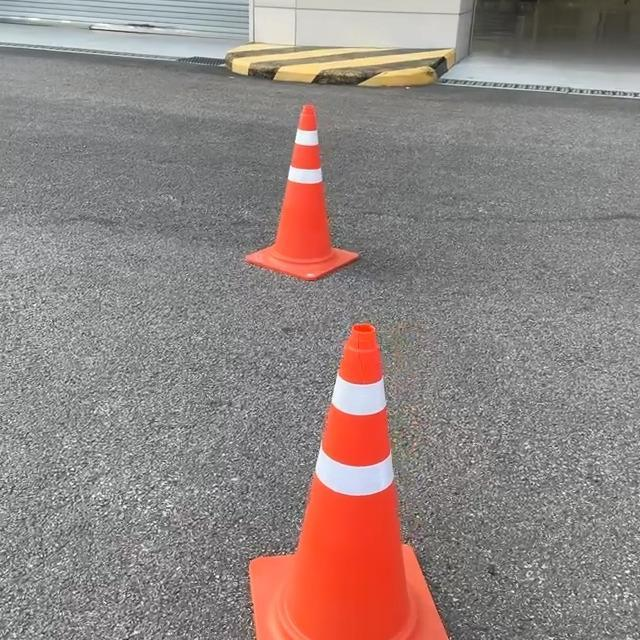fallen_object: (236, 299, 429, 622), (220, 72, 366, 293)
